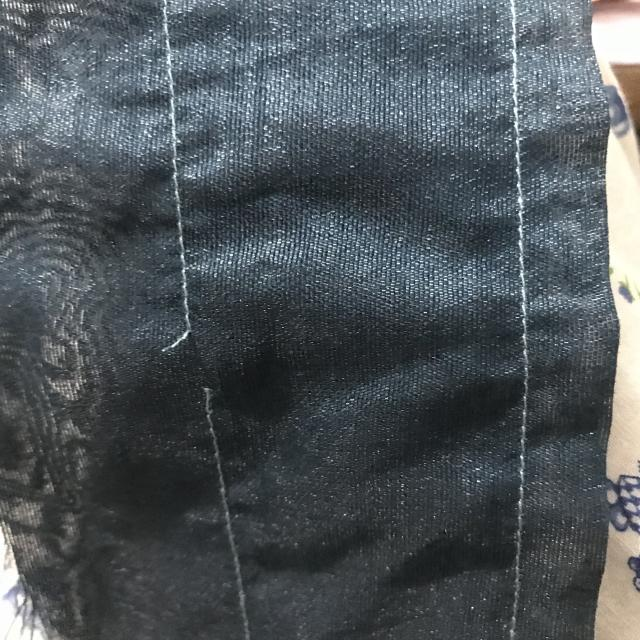broken: (155, 315, 245, 416)
good: (165, 165, 205, 278)
